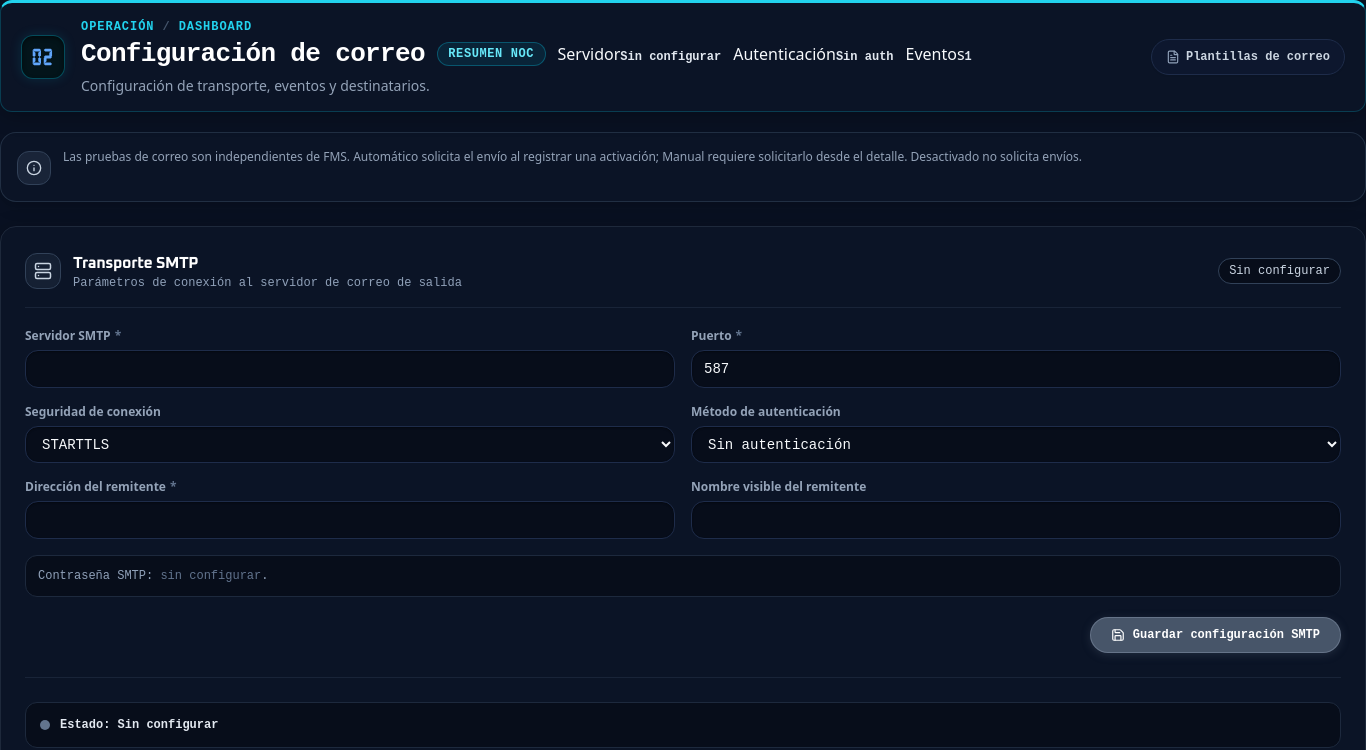
Test: Notificaciones por correo: solo configuración › guarda transporte y contraseña sin mostrarla después
expect the form named "Configuración SMTP" is shown: met, box [25,328,1341,653]
Type "smtp.example.com" into the field labelled "Servidor SMTP*" at (350, 369), box [25,350,675,388]
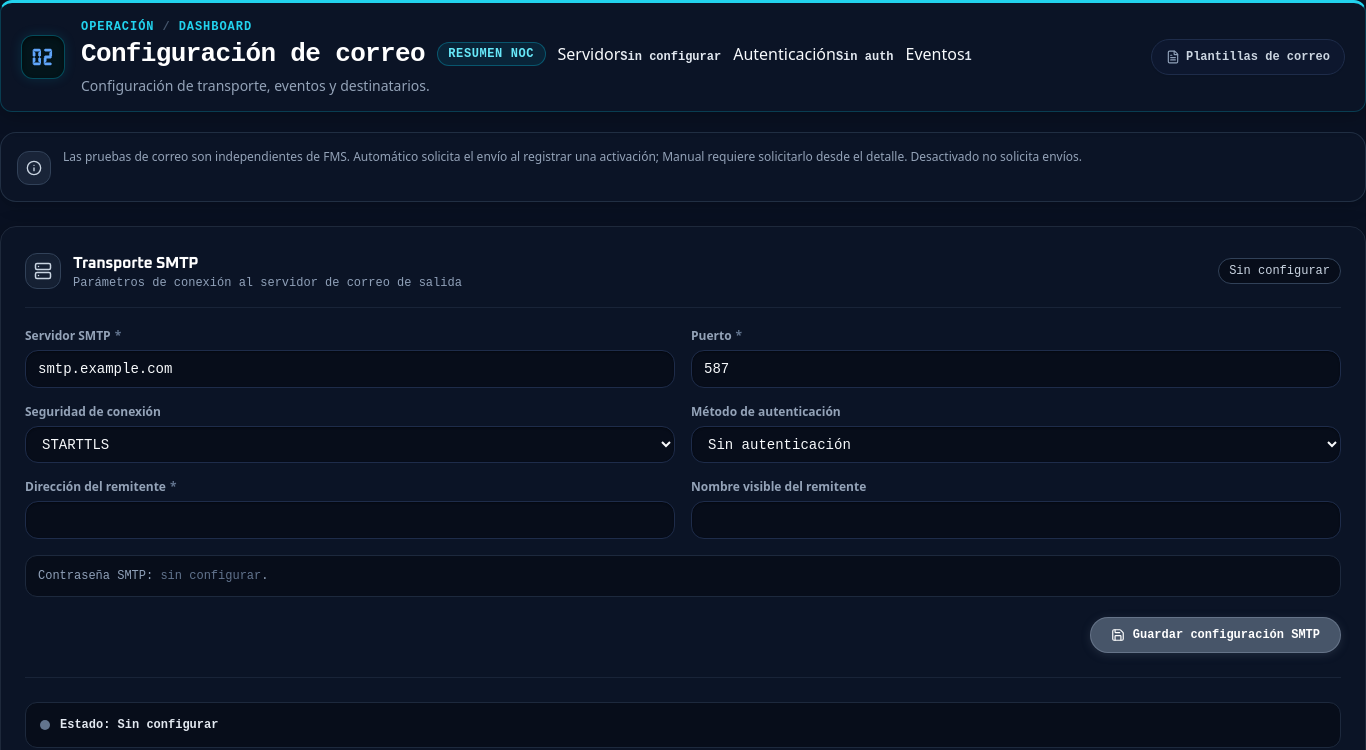
Type "noc@example.com" into the field labelled "Dirección del remitente*" at (350, 520), box [25,501,675,539]
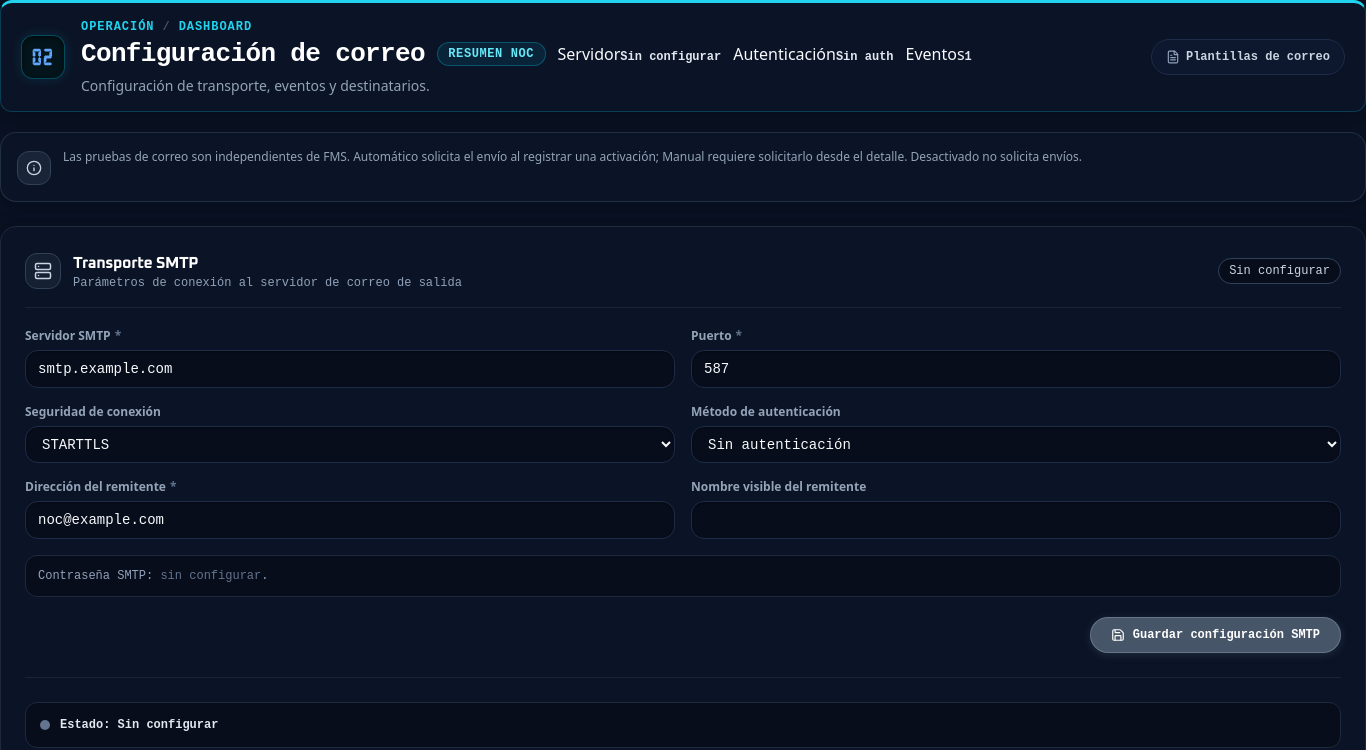
Select "Usuario y contraseña" in the dropdown labelled "Método de autenticación" at (1016, 445), box [691,426,1341,463]
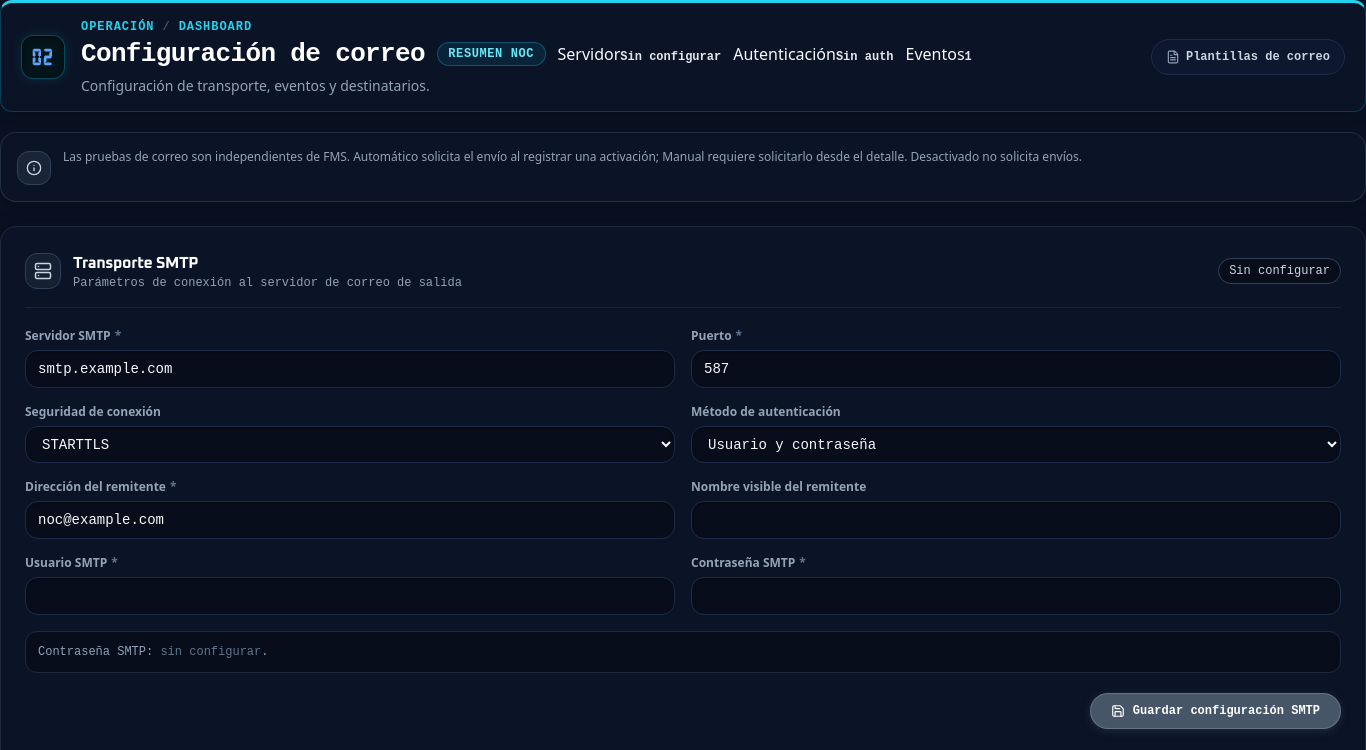
Type "smtp-user" into the field labelled "Usuario SMTP*" at (350, 596), box [25,577,675,615]
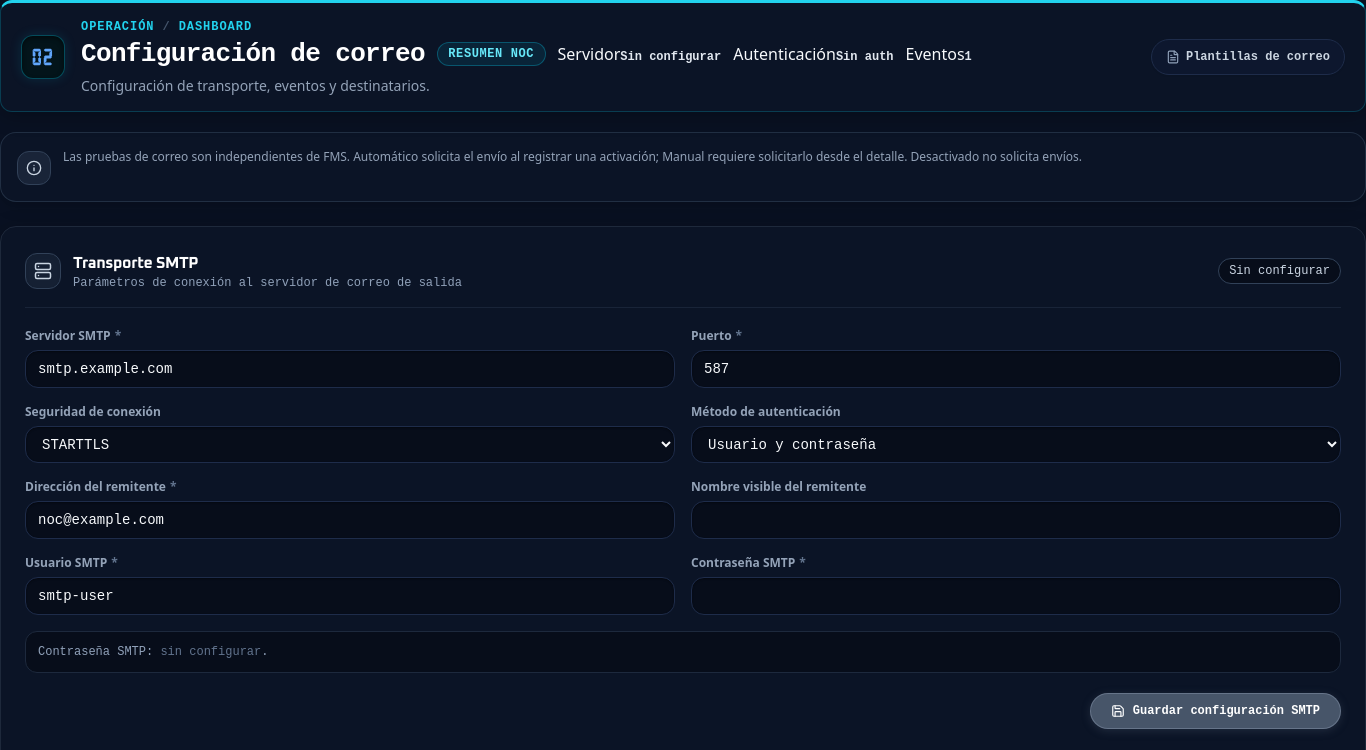
Type "synthetic-password" into the password field labelled "Contraseña SMTP*" at (1016, 596), box [691,577,1341,615]
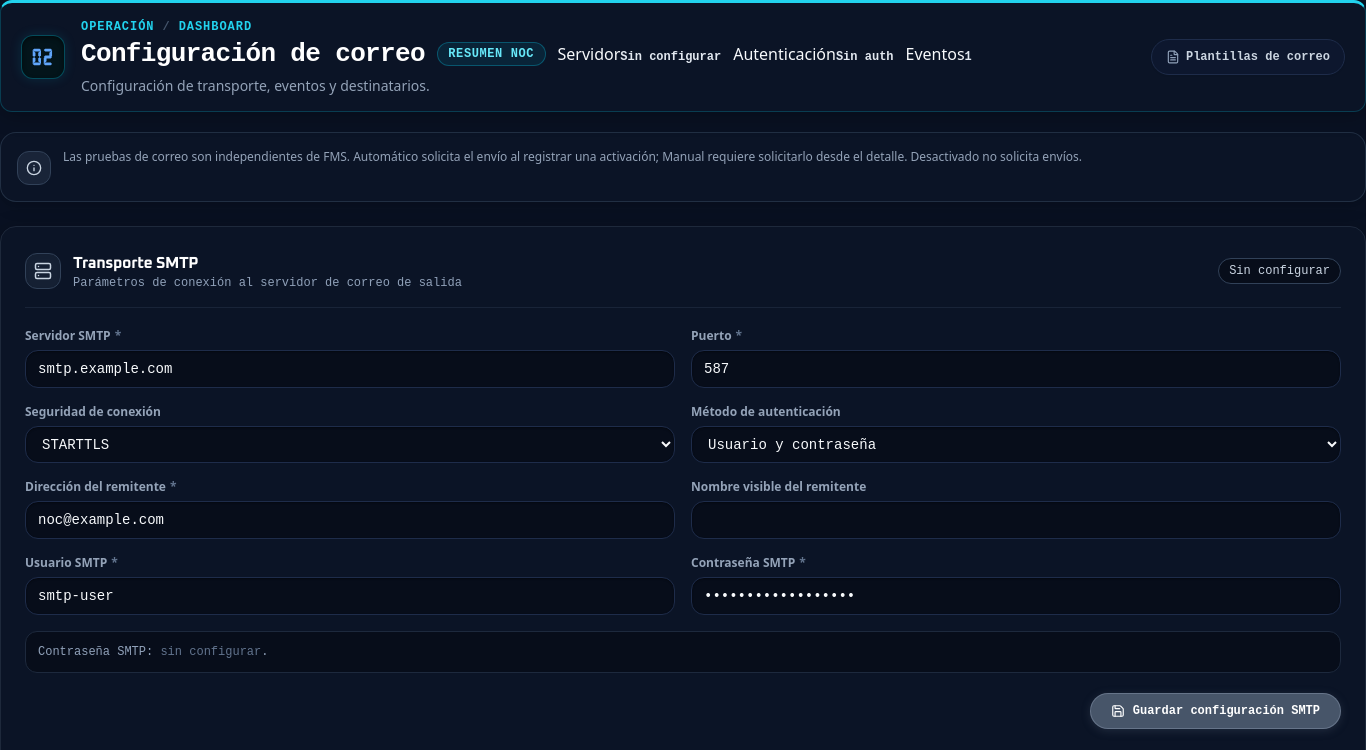
Click the button "Guardar configuración SMTP" at (1215, 711), box [1090,693,1341,729]
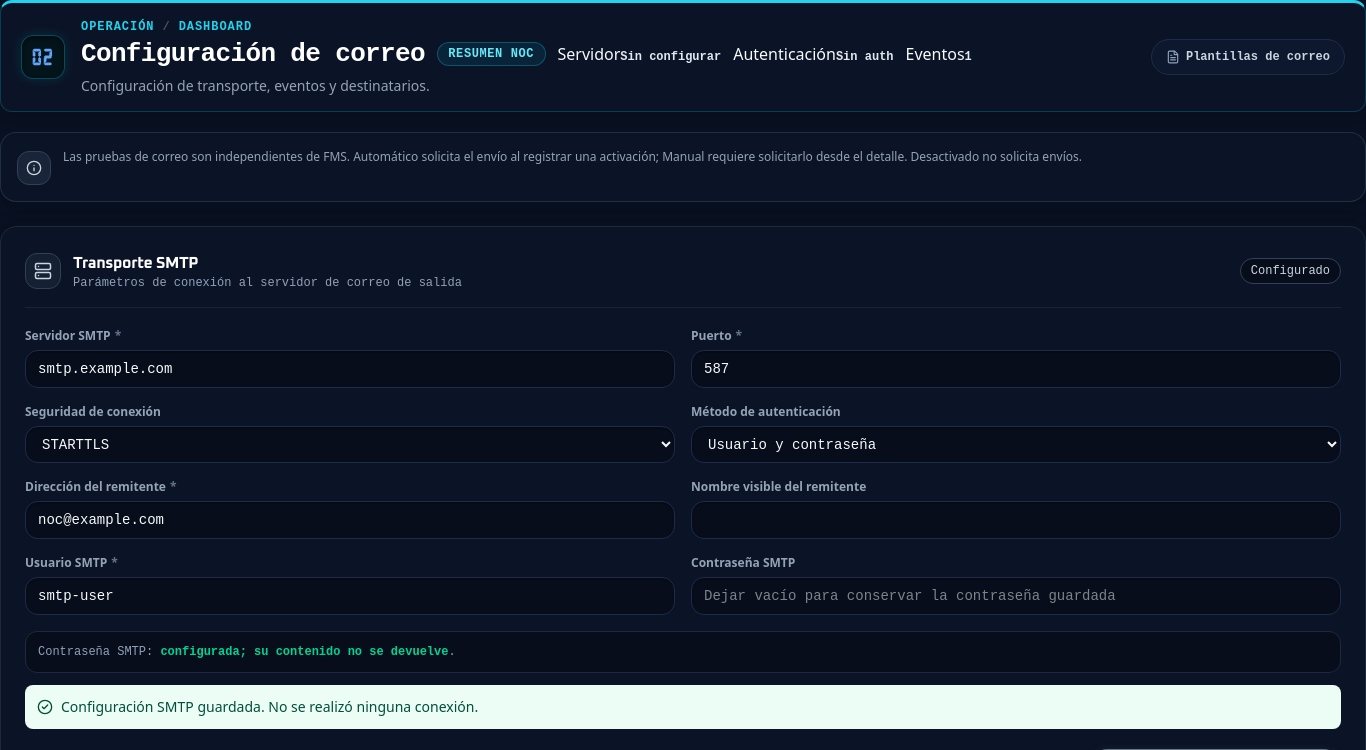
expect the text "Configuración SMTP guardada. No se realizó ninguna conexión." is shown: met, box [61,697,478,717]
expect the password field labelled "Contraseña SMTP" is empty: met, box [691,577,1341,615]
expect the text "configurada; su contenido no se devuelve" is shown: met, box [160,645,448,659]
